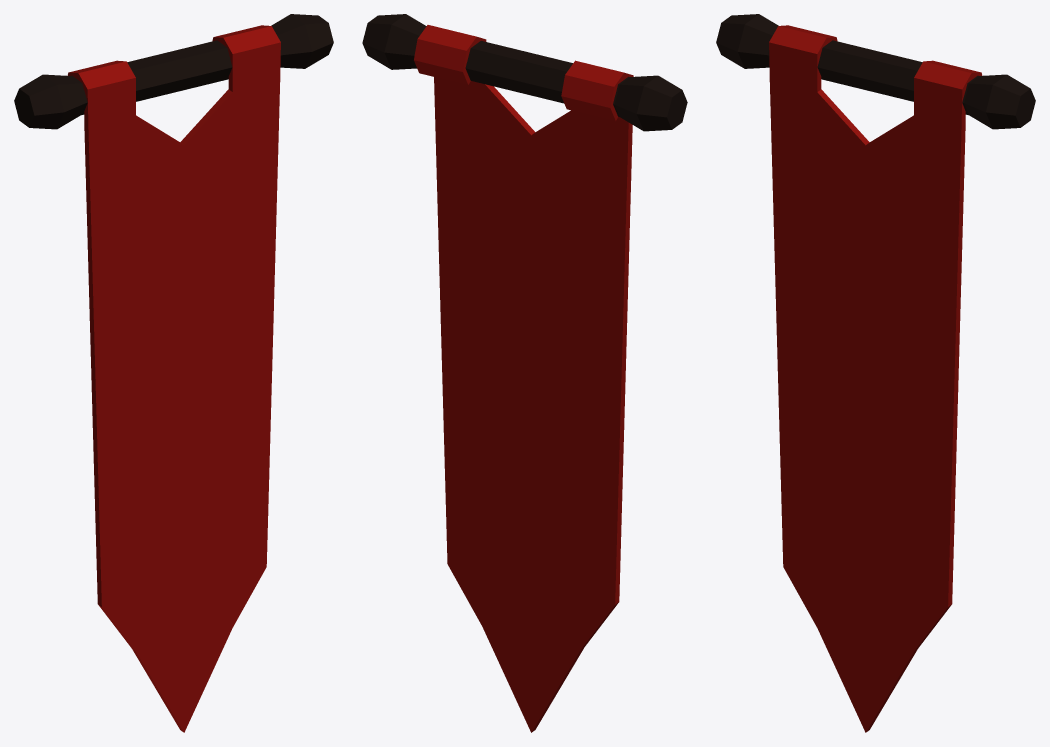
File: banner_1.obj
3 views of the same model, side by side, from view 1: azimuth 30°, elevation 25°; view 2: azimuth 150°, elevation 25°; view 3: azimuth 330°, elevation 25° (orthographic).
Visible parts, largest first — view 1: banner_1_Cylinder.018_clothRed, banner_1_Cylinder.018_redWood; view 2: banner_1_Cylinder.018_clothRed, banner_1_Cylinder.018_redWood; view 3: banner_1_Cylinder.018_clothRed, banner_1_Cylinder.018_redWood.
Part boxes in pixels (x1=…): banner_1_Cylinder.018_clothRed: x1=67, y1=25, x2=280, y2=732; banner_1_Cylinder.018_redWood: x1=14, y1=14, x2=333, y2=129; banner_1_Cylinder.018_clothRed: x1=414, y1=25, x2=633, y2=732; banner_1_Cylinder.018_redWood: x1=362, y1=14, x2=687, y2=131; banner_1_Cylinder.018_clothRed: x1=769, y1=25, x2=982, y2=732; banner_1_Cylinder.018_redWood: x1=716, y1=14, x2=1035, y2=129.
Size of the model in its own units: 1.26 by 2.72 by 0.2069.
